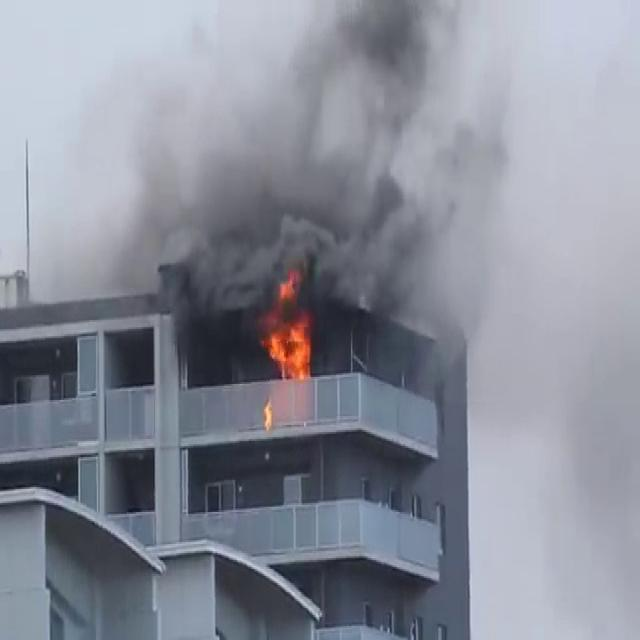Fire: (252, 278, 320, 383)
Smoke: (77, 0, 636, 366)
